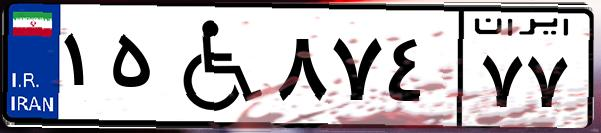1: (57, 26, 110, 100)
4: (385, 28, 445, 110)
5: (110, 28, 158, 98)
7: (330, 28, 385, 110), (475, 38, 525, 113), (525, 38, 570, 115)
8: (270, 28, 330, 110)
ژ (معلولین و جانبازان): (158, 12, 270, 120)
